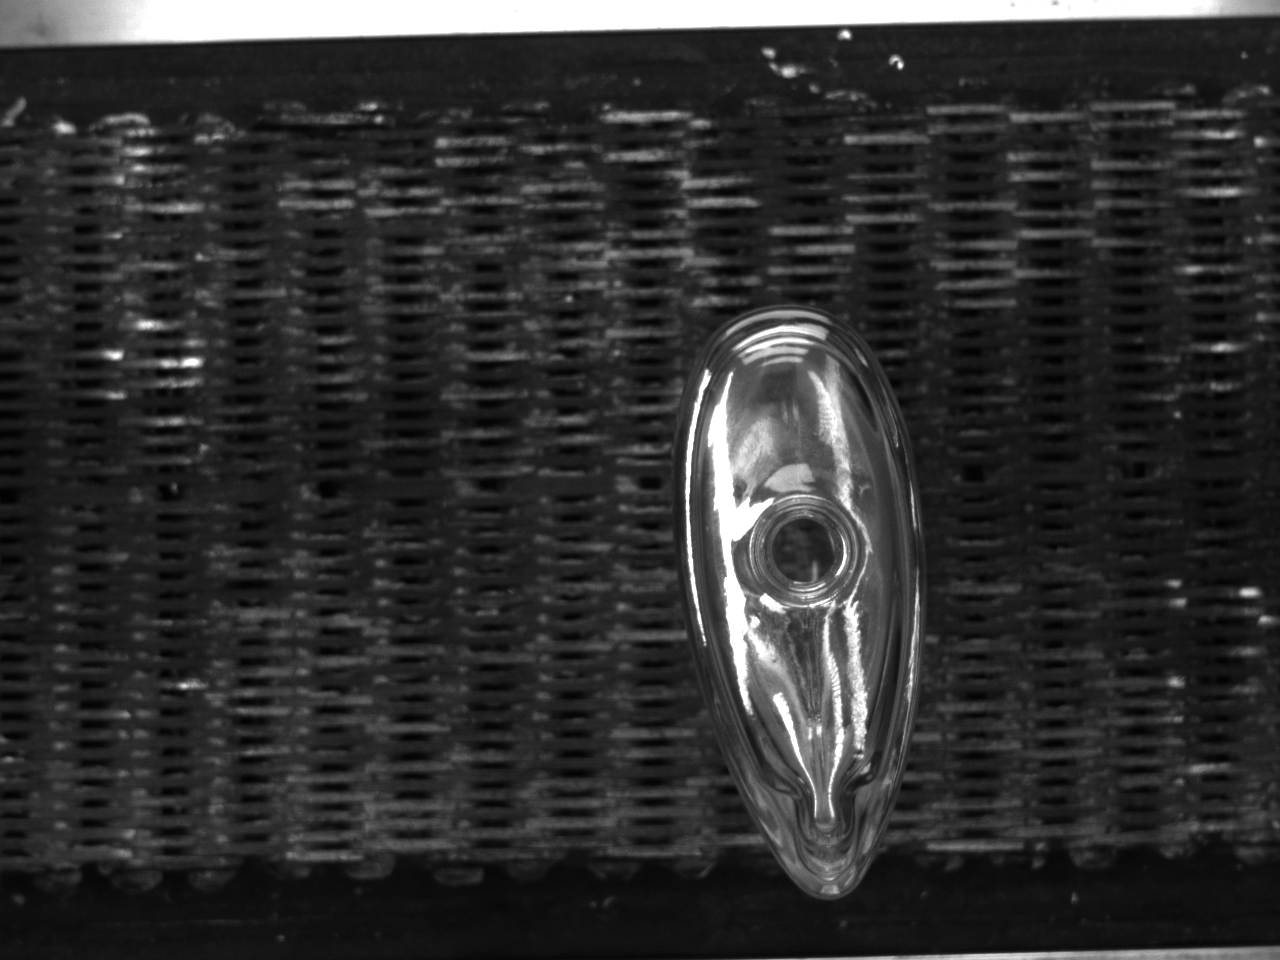bottleneck: (748, 494, 862, 607)
